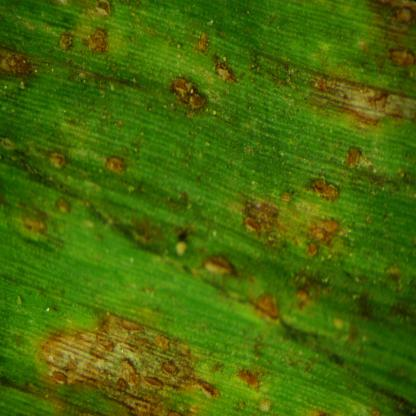Corn rust leaf: (1, 1, 414, 416)
